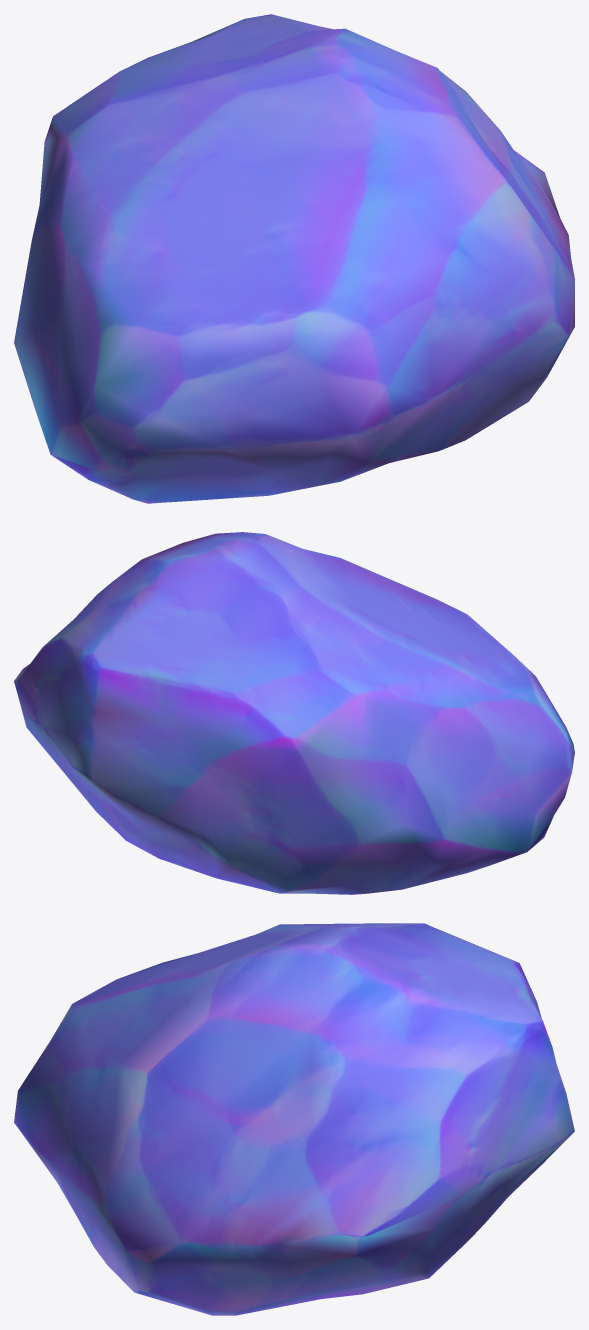
The model's file is Boulder01.fbx.
3 views of the same model, one above another, from view 1: azimuth 30°, elevation 25°; view 2: azimuth 150°, elevation 25°; view 3: azimuth 270°, elevation 25° (orthographic). The views are drawn at different scales.
Parts seen in each view (by area): view 1: Boulder01_LOD0; view 2: Boulder01_LOD0; view 3: Boulder01_LOD0.
Part boxes in pixels (x1,y1,x2,y2): Boulder01_LOD0: [14, 14, 574, 503]; Boulder01_LOD0: [14, 532, 574, 894]; Boulder01_LOD0: [14, 923, 574, 1315].
Size of what is drawn, in the model's own units: 98.92 by 58.6 by 90.15.
